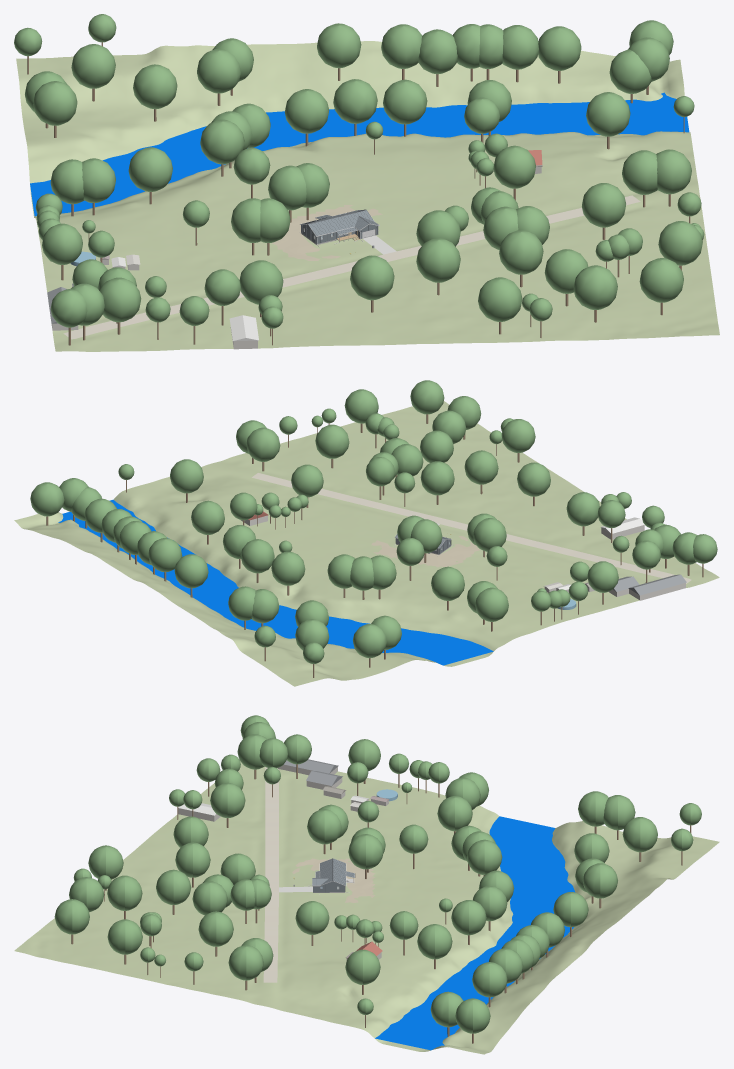
Rendered from js-house.glb.
3 renders of one model, top to bottom at view 1: azimuth 30°, elevation 25°; view 2: azimuth 150°, elevation 25°; view 3: azimuth 270°, elevation 25°, orthographic. The views are drawn at different scales.
Visible parts, largest first — view 1: Site Model::Terrain::Proposed Grade (mesh), Site Model::Trees::Canopy, Site Model::Water, Site Model::South 4th Street (gravel), Site Model::Trees::Trunks, Site Model::Terrain::Existing Grade (mesh), Site Model::Neighboring Structures::Roofs, 3D Model::Roof::Metal Roofing::Panels, Site Model::Neighboring Structures::Walls; view 2: Site Model::Terrain::Proposed Grade (mesh), Site Model::Trees::Canopy, Site Model::Water, Site Model::South 4th Street (gravel), Site Model::Trees::Trunks, Site Model::Neighboring Structures::Roofs, Site Model::Terrain::Existing Grade (mesh), Site Model::Neighboring Structures::Walls; view 3: Site Model::Terrain::Proposed Grade (mesh), Site Model::Trees::Canopy, Site Model::Water, Site Model::South 4th Street (gravel), Site Model::Trees::Trunks, Site Model::Neighboring Structures::Roofs, Site Model::Terrain::Existing Grade (mesh), Site Model::Neighboring Structures::Walls, 3D Model::Roof::Metal Roofing::Panels.
Part boxes in pixels (x1,y1,x2,y2): Site Model::Terrain::Proposed Grade (mesh): (16,41,719,351); Site Model::Trees::Canopy: (14,14,704,328); Site Model::Water: (30,92,689,216); Site Model::South 4th Street (gravel): (63,195,640,339); Site Model::Trees::Trunks: (27,42,690,345); Site Model::Terrain::Existing Grade (mesh): (272,205,382,260); Site Model::Neighboring Structures::Roofs: (47,150,542,341); 3D Model::Roof::Metal Roofing::Panels: (300,210,378,236); Site Model::Neighboring Structures::Walls: (48,167,541,349); Site Model::Terrain::Proposed Grade (mesh): (14,401,719,686); Site Model::Trees::Canopy: (30,380,717,663); Site Model::Water: (58,499,493,665); Site Model::South 4th Street (gravel): (252,473,691,583); Site Model::Trees::Trunks: (46,414,703,677); Site Model::Neighboring Structures::Roofs: (248,511,686,595); Site Model::Terrain::Existing Grade (mesh): (371,536,479,567); Site Model::Neighboring Structures::Walls: (241,515,685,600); Site Model::Terrain::Proposed Grade (mesh): (14,761,719,1054); Site Model::Trees::Canopy: (54,715,701,1033); Site Model::Water: (375,816,575,1050); Site Model::South 4th Street (gravel): (263,767,278,982); Site Model::Trees::Trunks: (71,764,691,1043); Site Model::Neighboring Structures::Roofs: (177,759,389,958); Site Model::Terrain::Existing Grade (mesh): (292,858,375,902); Site Model::Neighboring Structures::Walls: (178,764,388,960); 3D Model::Roof::Metal Roofing::Panels: (312,858,345,885).
Bounding box in the file's own units: 926 × 89.05 × 926.
